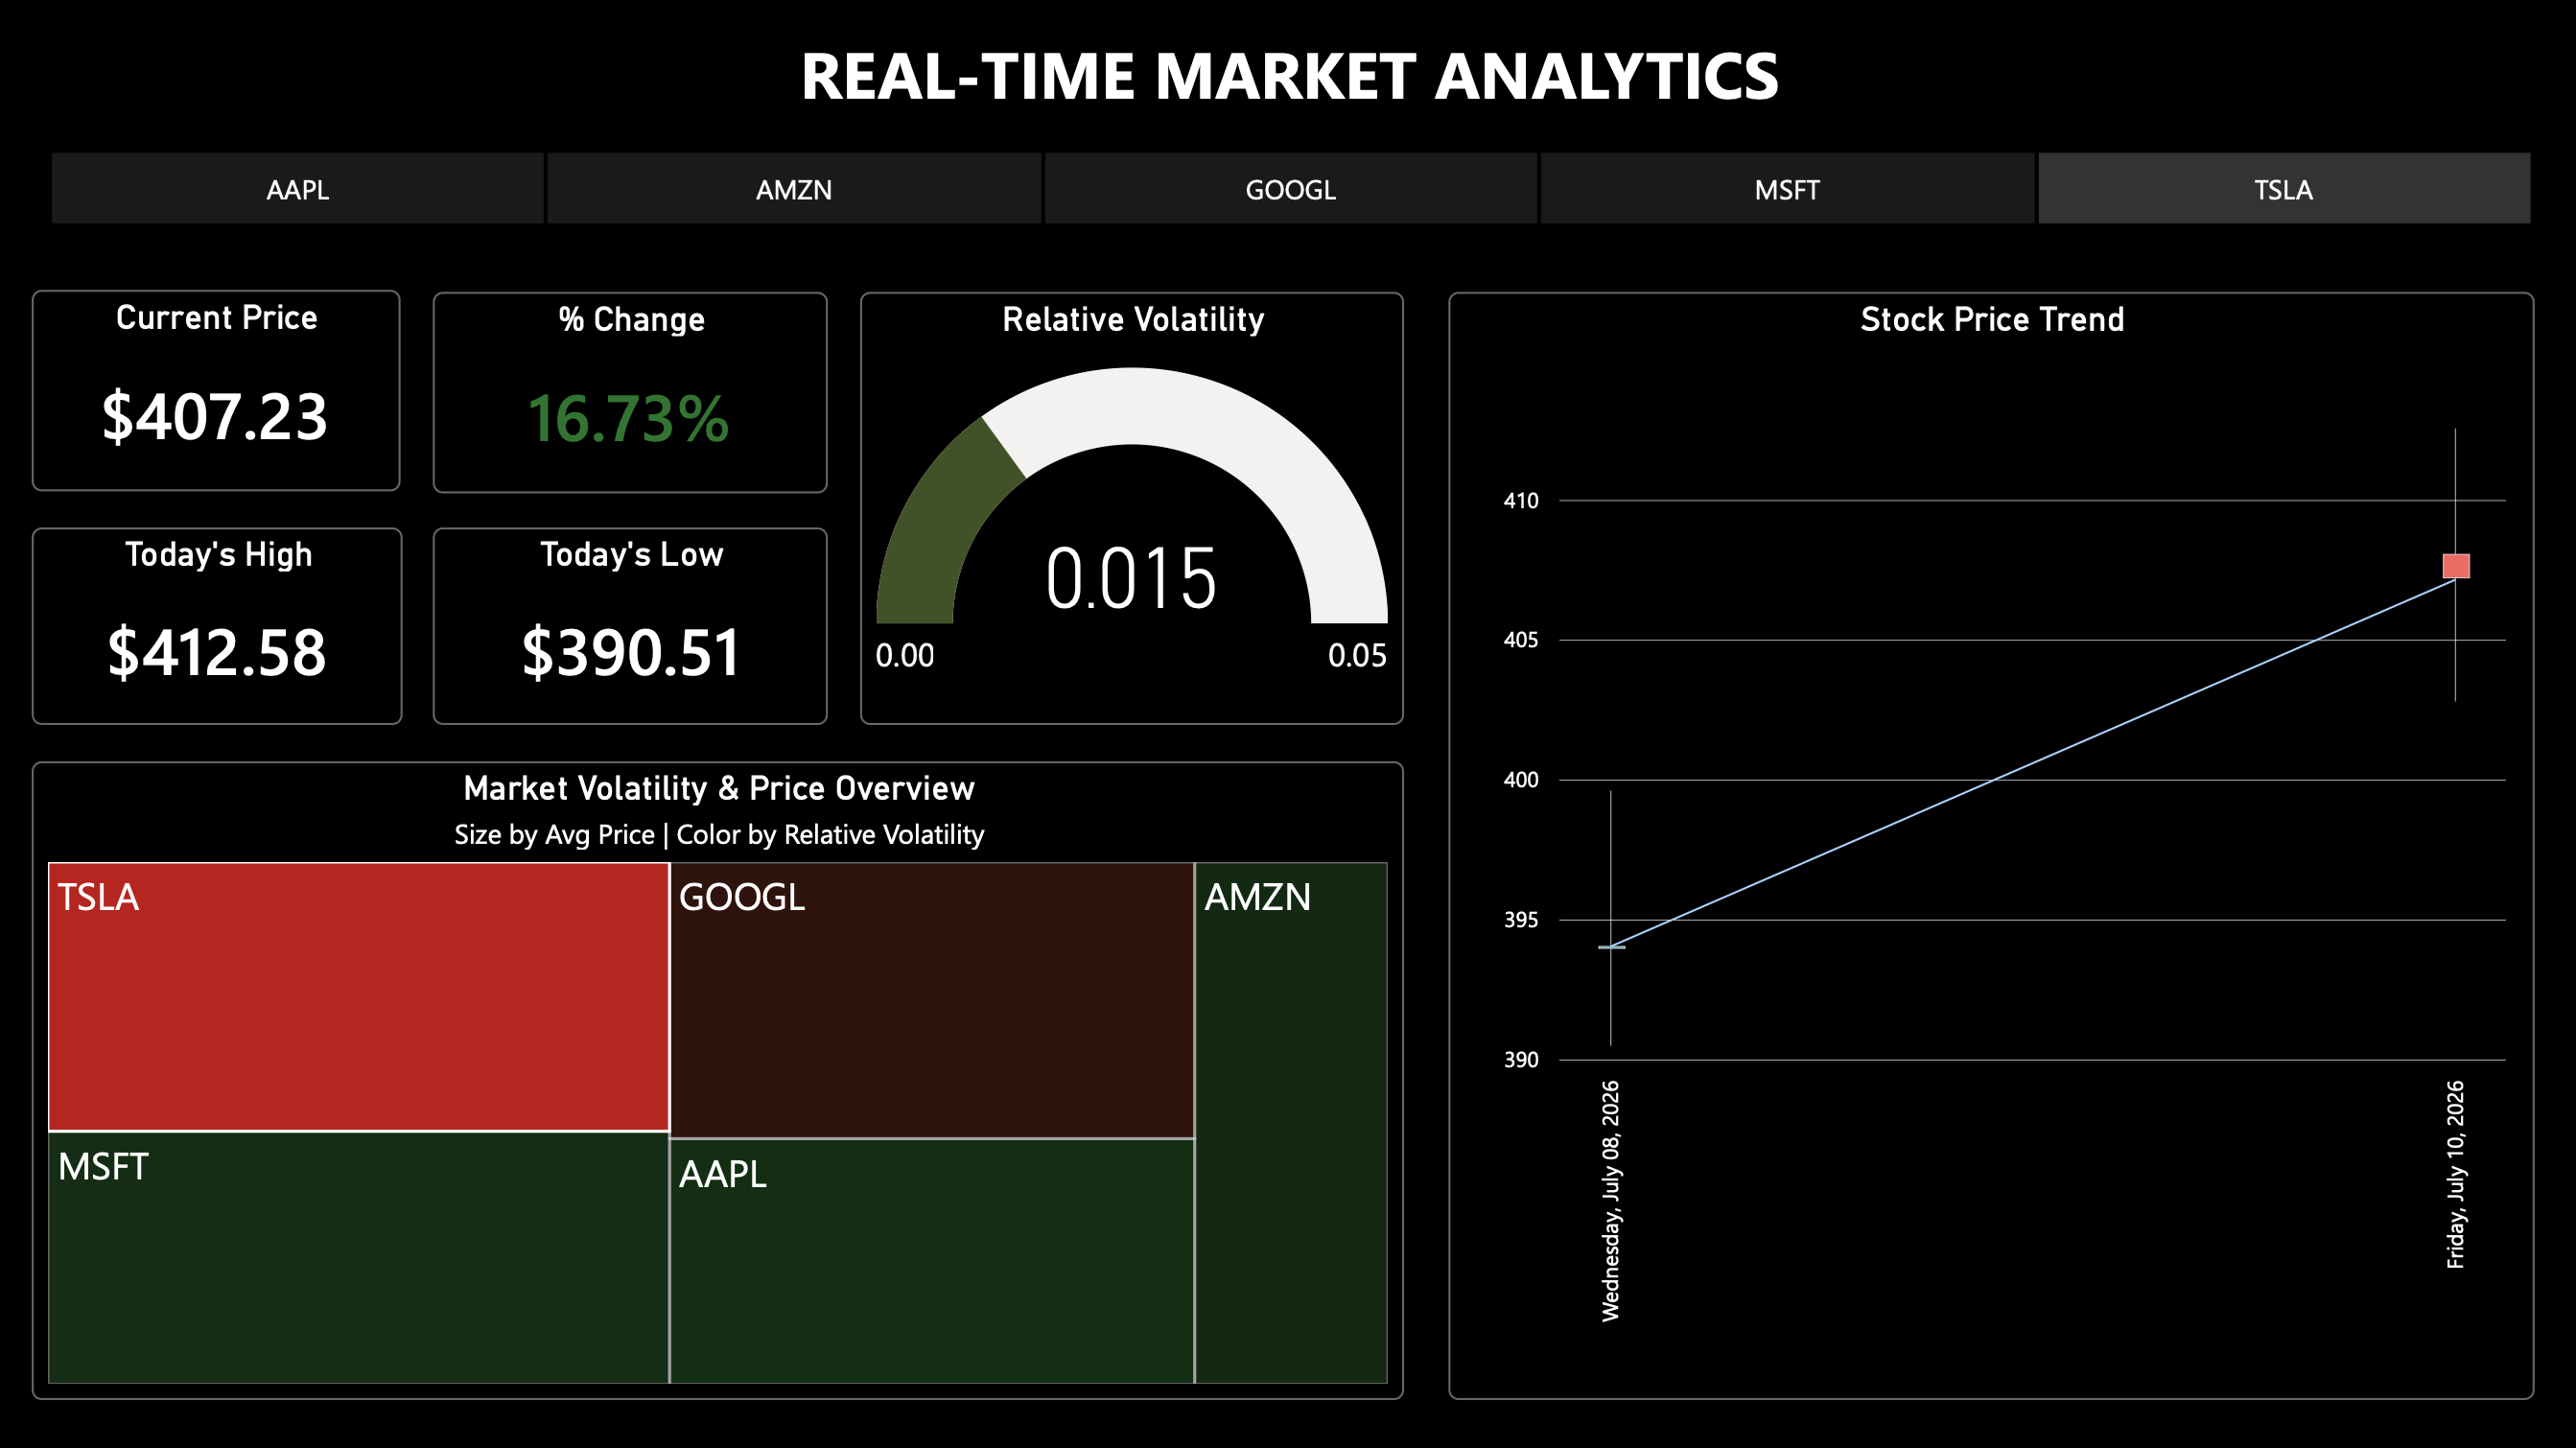

The dashboard page shown, as its layout file describes it:
{"tool":"powerbi","page":{"name":"Page 1","canvas":[1280,720],"ordinal":0},"visuals":[{"type":"slicer","title":"APPLE","fields":{"Values":["GOLD_KPI.SYMBOL"]},"box":[0,68.8,1280,49.5],"z":0},{"type":"cardVisual","title":"% Change","fields":{"Data":["Avg(GOLD_KPI.CHANGE_PERCENT)"]},"box":[214.7,144.8,196.6,100.1],"z":1000},{"type":"treemap","title":"Market Volatility & Price Overview","fields":{"Group":["GOLD_TREECHART.SYMBOL"],"Values":["Sum(GOLD_TREECHART.AVG_PRICE)"]},"box":[15.7,377.6,681.6,317.3],"z":2000},{"type":"PBI_CV_886A053E_9DFD_4EA0_A47D_CCAEB89AF969","title":"Stock Price Trend","fields":{"Category":["GOLD_CANDLESTICK.CANDLE_TIME"],"open":["Sum(GOLD_CANDLESTICK.CANDLE_OPEN)"],"close":["Sum(GOLD_CANDLESTICK.CANDLE_CLOSE)"],"high":["Sum(GOLD_CANDLESTICK.CANDLE_HIGH)"],"low":["Sum(GOLD_CANDLESTICK.CANDLE_LOW)"],"trends":["Sum(GOLD_CANDLESTICK.TREND_LINE)"]},"box":[719,144.8,539.3,550.1],"z":3000},{"type":"textbox","box":[371.6,8.6,537,60.5],"z":4000},{"type":"cardVisual","title":"Current Price","fields":{"Data":["Sum(GOLD_KPI.CURRENT_PRICE)"]},"box":[16,144.4,182.7,100],"z":5000},{"type":"cardVisual","title":"Today''s High","fields":{"Data":["Max(GOLD_CANDLESTICK.CANDLE_HIGH)"]},"box":[15.7,261.8,184.6,97.7],"z":6000},{"type":"cardVisual","title":"Today''s Low","fields":{"Data":["Min(GOLD_CANDLESTICK.CANDLE_LOW)"]},"box":[214.7,261.8,196.6,97.7],"z":7000},{"type":"gauge","title":"Relative Volatility","fields":{"Y":["Sum(GOLD_TREECHART.RELATIVE_VOLATILITY)"]},"box":[427.1,144.8,270.2,214.7],"z":8000}]}

Visuals, with their boxes in screenshot pixels (x1, y1, x2, y2), scaled from the page's 1280x720 canvas onto the 2576x1448 screenshot:
"APPLE" slicer: x1=0, y1=138, x2=2575, y2=238
"% Change" cardVisual: x1=433, y1=292, x2=828, y2=493
"Market Volatility & Price Overview" treemap: x1=32, y1=759, x2=1403, y2=1397
"Stock Price Trend" PBI_CV_886A053E_9DFD_4EA0_A47D_CCAEB89AF969: x1=1447, y1=292, x2=2532, y2=1397
textbox: x1=748, y1=17, x2=1829, y2=139
"Current Price" cardVisual: x1=33, y1=291, x2=400, y2=492
"Today''s High" cardVisual: x1=32, y1=526, x2=403, y2=723
"Today''s Low" cardVisual: x1=433, y1=526, x2=828, y2=723
"Relative Volatility" gauge: x1=859, y1=292, x2=1403, y2=723
